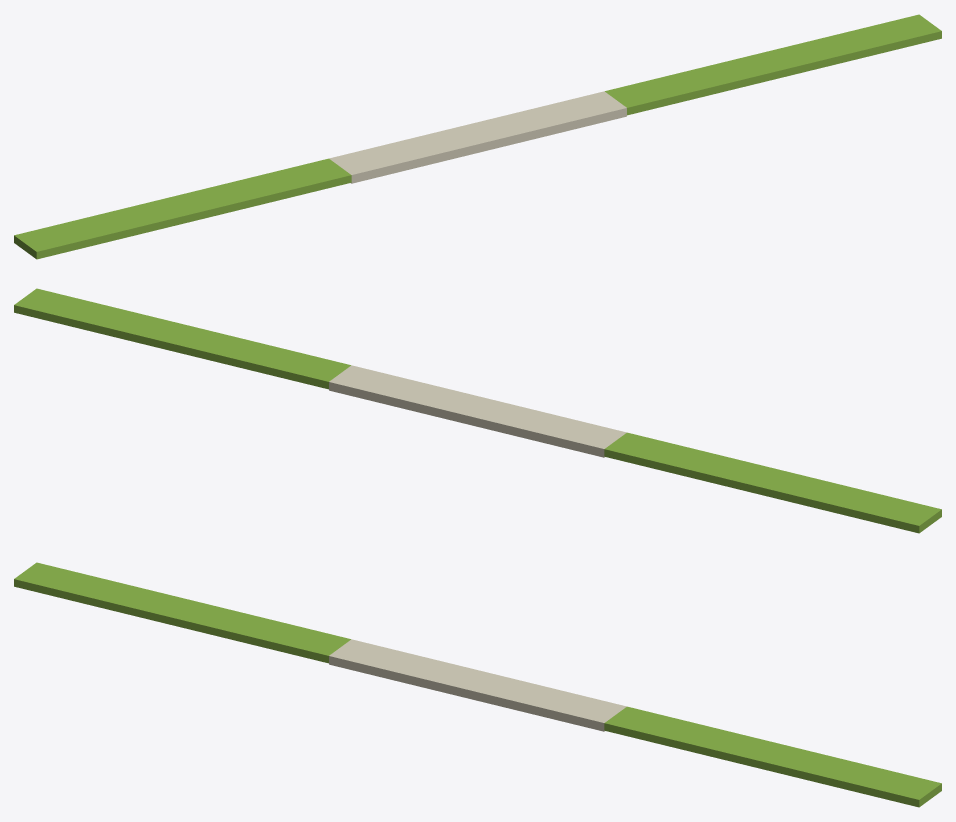
The model's file is kenney-plaza-row.obj.
The picture shows the model from 3 angles, top to bottom: view 1: azimuth 30°, elevation 25°; view 2: azimuth 150°, elevation 25°; view 3: azimuth 330°, elevation 25°; orthographic projection.
Size of the model in its own units: 69 by 0.63 by 3.
Materials: 2 (2 with a texture image).
